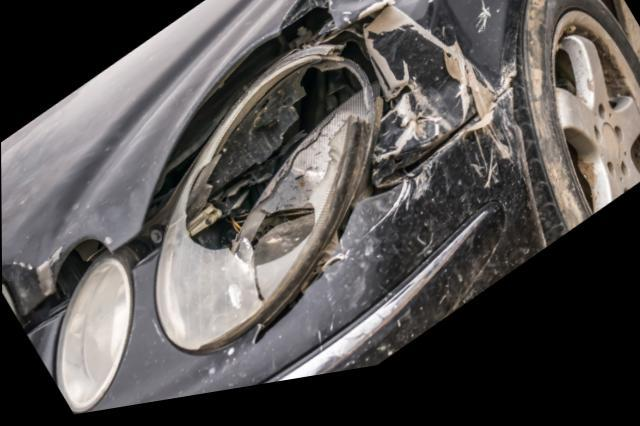dent: (328, 0, 502, 179)
dislocated part: (1, 0, 333, 334)
lamp broken: (154, 57, 380, 361)
scratch: (320, 123, 522, 324)
